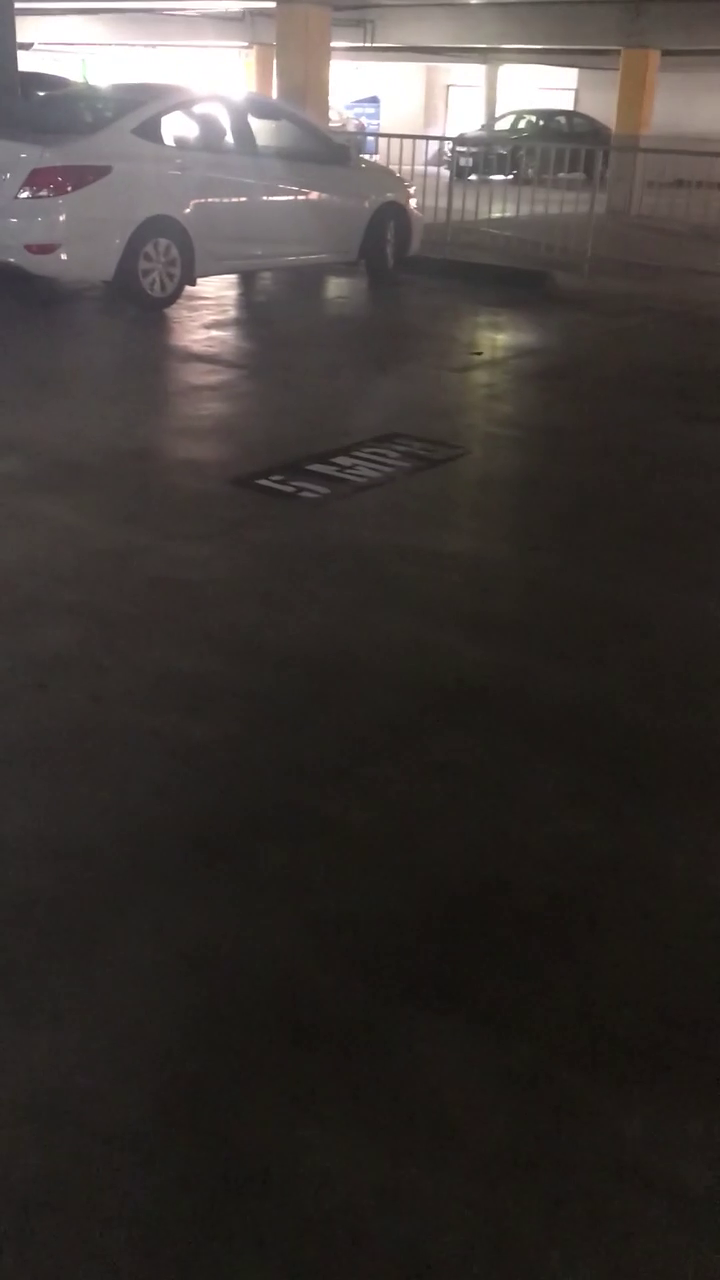car: (0, 60, 407, 314)
